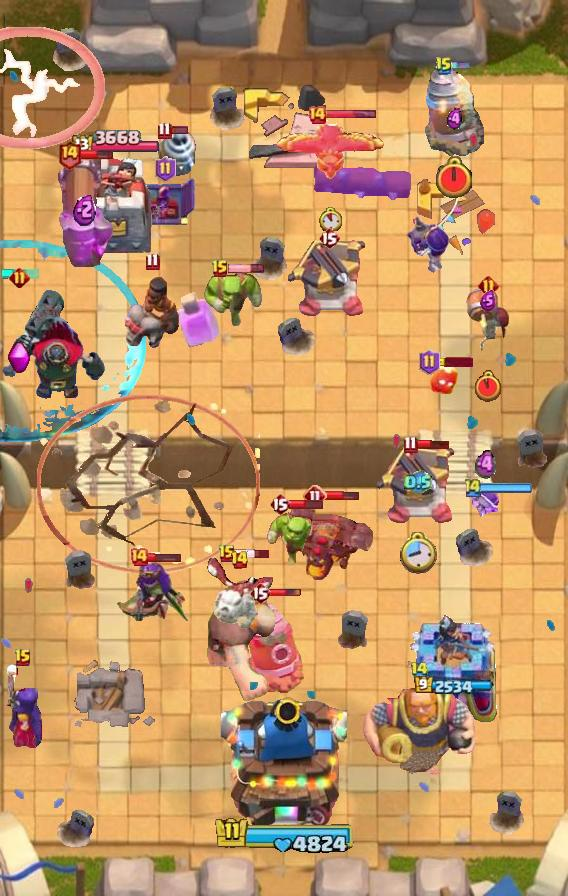archer-evolution: (287, 498, 373, 584)
axe: (0, 662, 46, 750)
balloon: (201, 564, 277, 704)
barbarian-evolution: (0, 27, 104, 149)
barbarian-hut: (110, 559, 195, 629)
bomber: (428, 363, 460, 397)
clock: (210, 815, 358, 857)
electro-spirit: (72, 194, 95, 226), (404, 469, 432, 494), (476, 449, 497, 481), (480, 289, 496, 310), (447, 108, 462, 130)
elite-barbarian: (123, 274, 181, 350)
elixir: (434, 156, 474, 200), (399, 533, 437, 576), (475, 370, 501, 402), (319, 208, 342, 233)
emote: (325, 108, 377, 119), (480, 483, 532, 493), (233, 548, 271, 560), (78, 149, 114, 161), (325, 490, 360, 502), (288, 498, 323, 510), (146, 551, 181, 563), (228, 262, 265, 273), (415, 439, 451, 450), (437, 357, 473, 367), (268, 588, 302, 598), (451, 61, 471, 71), (170, 125, 189, 135)
flying-machine: (266, 508, 328, 568), (203, 271, 265, 327)
furnace: (53, 153, 115, 267)
giant-skeleton: (361, 678, 477, 778)
goblin: (469, 486, 501, 520)
goblin-ball: (405, 208, 449, 274)
goblin-drill: (156, 126, 200, 178)
golden-knight: (275, 116, 385, 182)
guard: (36, 395, 259, 574)
ice-spirit: (0, 269, 40, 279)
ice-spirit-evolution-symbol: (133, 174, 197, 228)
inferno-tower: (0, 288, 106, 400)
king-tower: (221, 690, 347, 826)
knight: (464, 287, 512, 353)
knight-evolution: (177, 292, 221, 349)
lava-pup: (288, 240, 370, 320), (377, 447, 459, 527)
magic-archer: (242, 598, 308, 696), (424, 65, 484, 157)
mini-pekka: (205, 554, 277, 632)
minion: (310, 160, 412, 200)
pad_0: (0, 240, 146, 446)
queen-tower: (406, 614, 503, 730), (74, 157, 154, 256)
selected: (69, 130, 159, 158), (414, 676, 494, 696)
skeleton-king-skill: (7, 341, 32, 375)
text: (57, 139, 82, 169), (303, 484, 327, 508), (156, 156, 177, 182), (419, 349, 440, 375), (318, 226, 340, 250), (269, 492, 291, 516), (249, 581, 271, 605), (9, 267, 30, 289), (477, 275, 499, 296), (463, 477, 483, 499), (307, 105, 327, 125), (129, 547, 149, 567), (230, 550, 249, 570), (435, 56, 453, 76), (211, 259, 229, 279), (218, 544, 236, 564), (14, 648, 32, 668), (411, 661, 430, 679), (156, 120, 171, 139), (145, 253, 160, 272), (403, 435, 417, 454)
